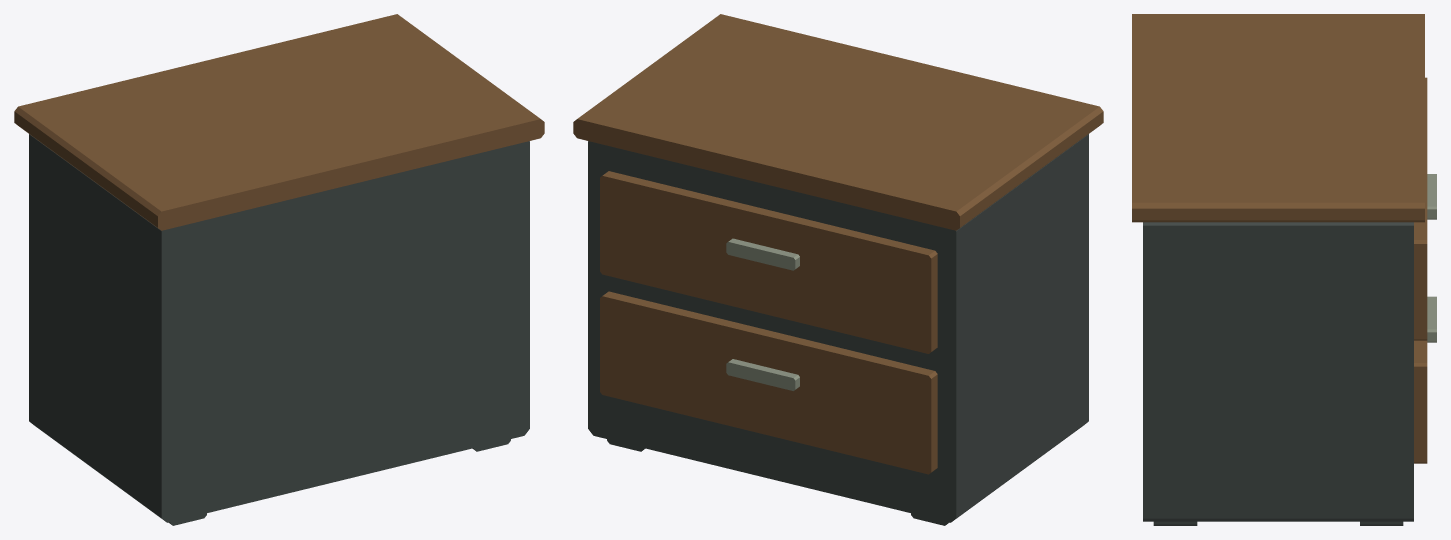
Rendered from Dresser.gltf.
3 renders of one model, left to right at view 1: azimuth 30°, elevation 25°; view 2: azimuth 150°, elevation 25°; view 3: azimuth 270°, elevation 25°, orthographic. The views are drawn at different scales.
Visible parts, largest first — view 1: Dresser; view 2: Dresser; view 3: Dresser.
Part boxes in pixels (x1,y1,x2,y2): Dresser: [14, 14, 544, 525]; Dresser: [573, 14, 1103, 525]; Dresser: [1132, 14, 1436, 525].
Bounding box in the file's own units: 0.84 × 0.68 × 0.562.
